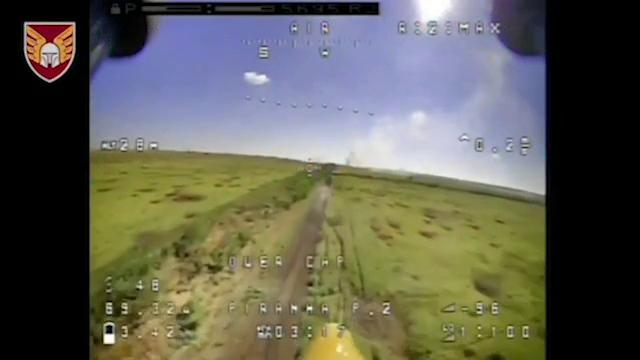tank: (314, 180, 334, 206)
